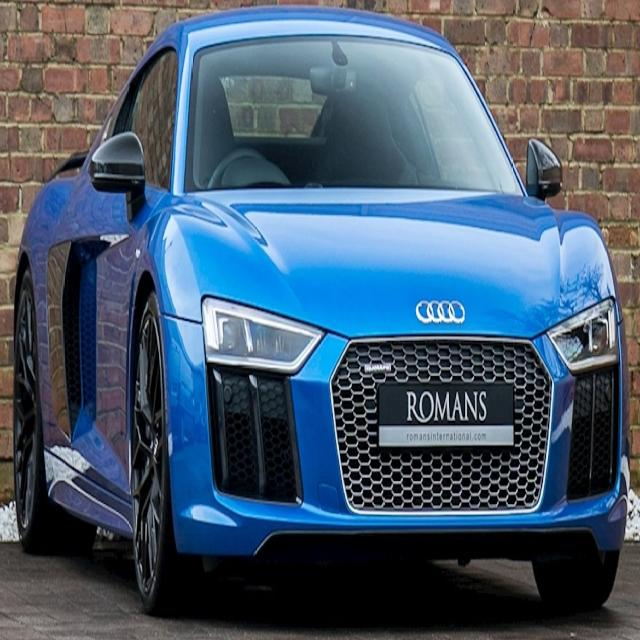blue: (13, 15, 640, 640)
